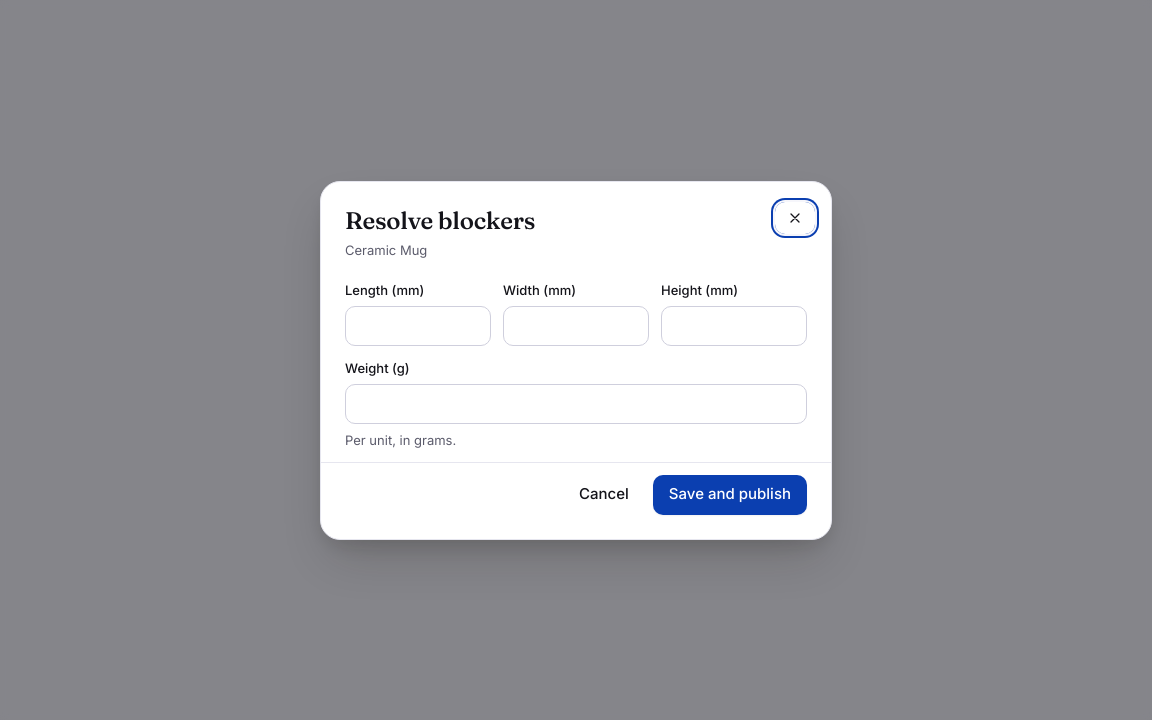
it: maps a 422 onto the field it names
Type "100" into the field labelled "Length (mm)" at point(418, 326), box 345,306 -> 491,346
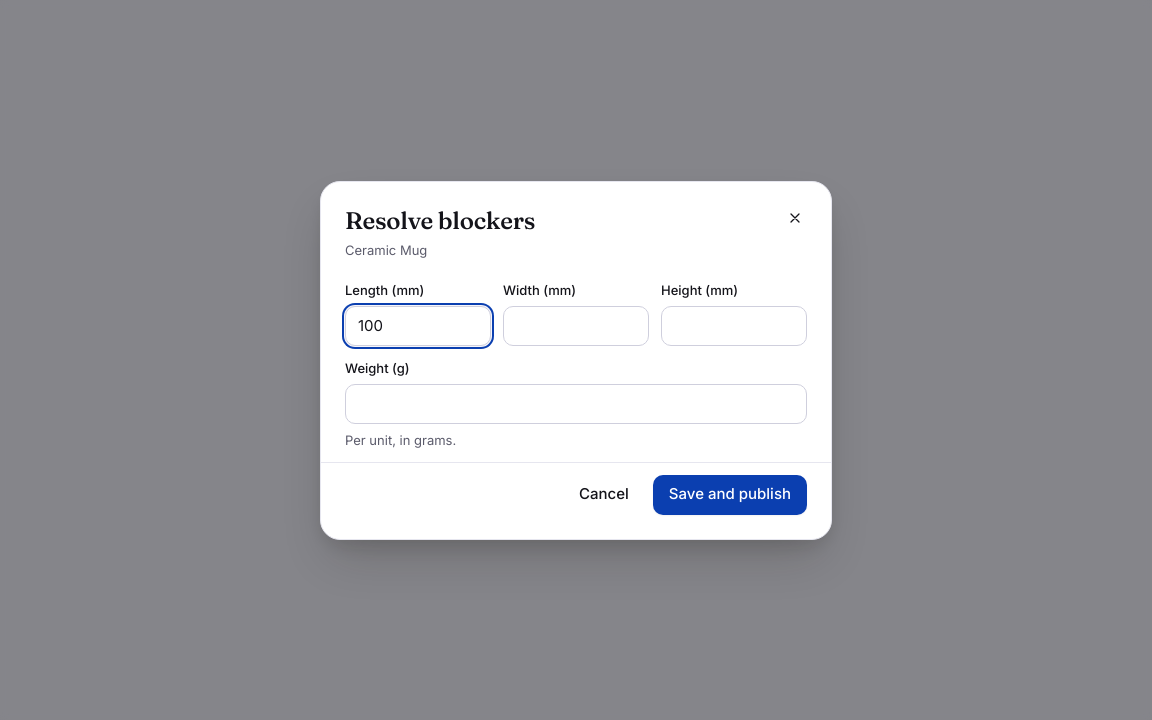
Type "80" into the field labelled "Width (mm)" at point(576, 326), box 503,306 -> 649,346
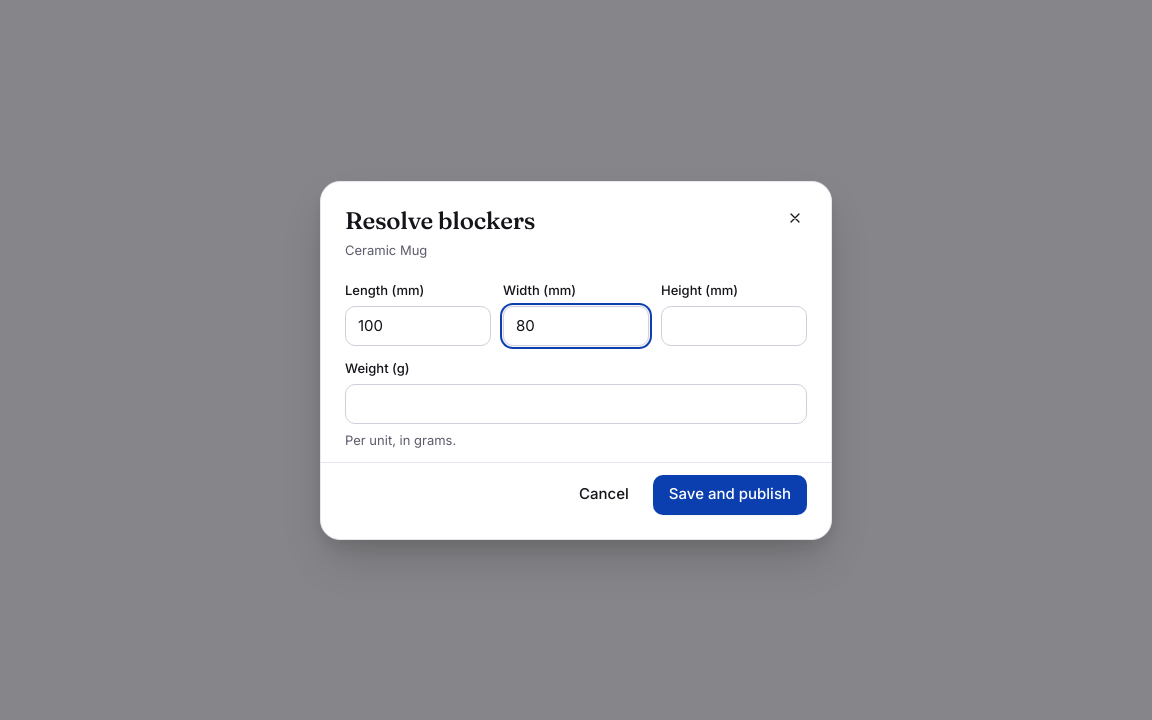
Type "60" into the field labelled "Height (mm)" at point(734, 326), box 661,306 -> 807,346
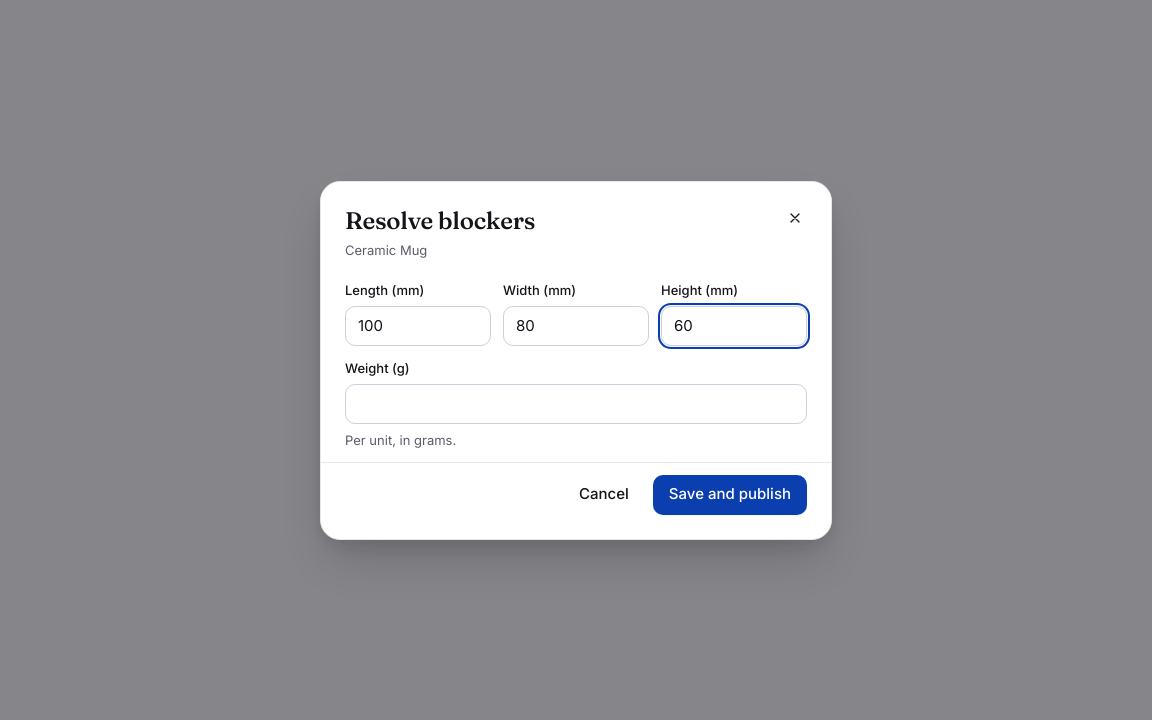
Type "250" into the field labelled "Weight (g)" at point(576, 404), box 345,384 -> 807,424
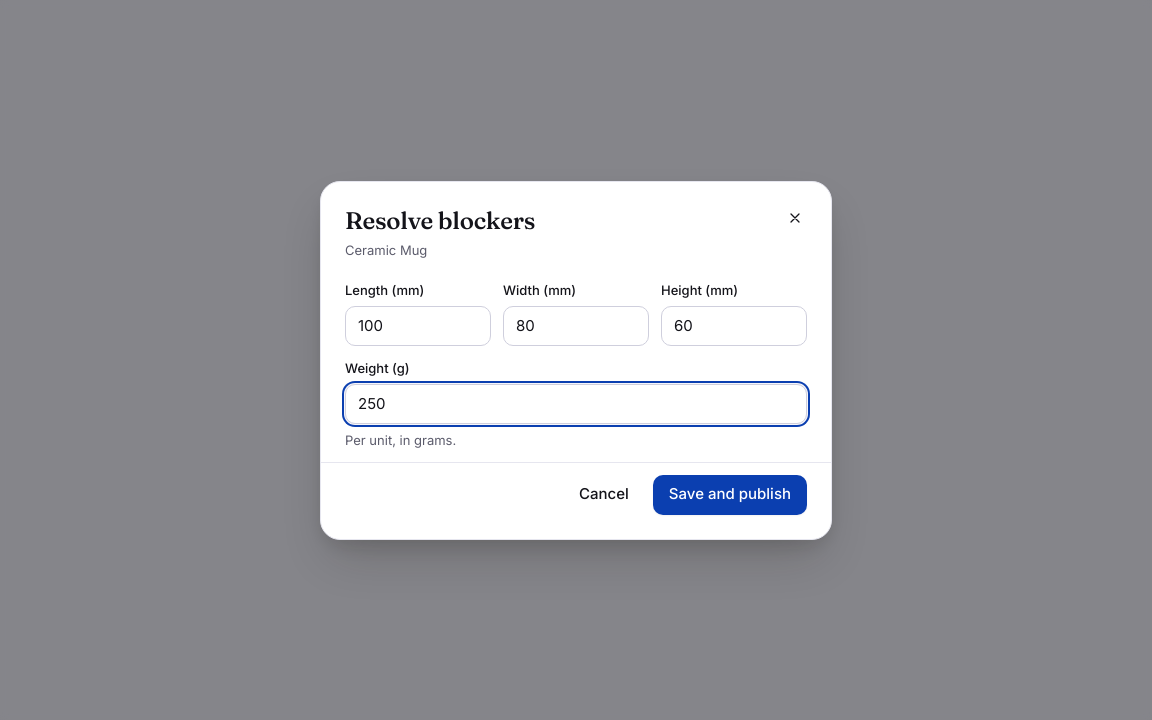
Click the button "Save and publish" at point(730, 494), box 653,474 -> 807,514
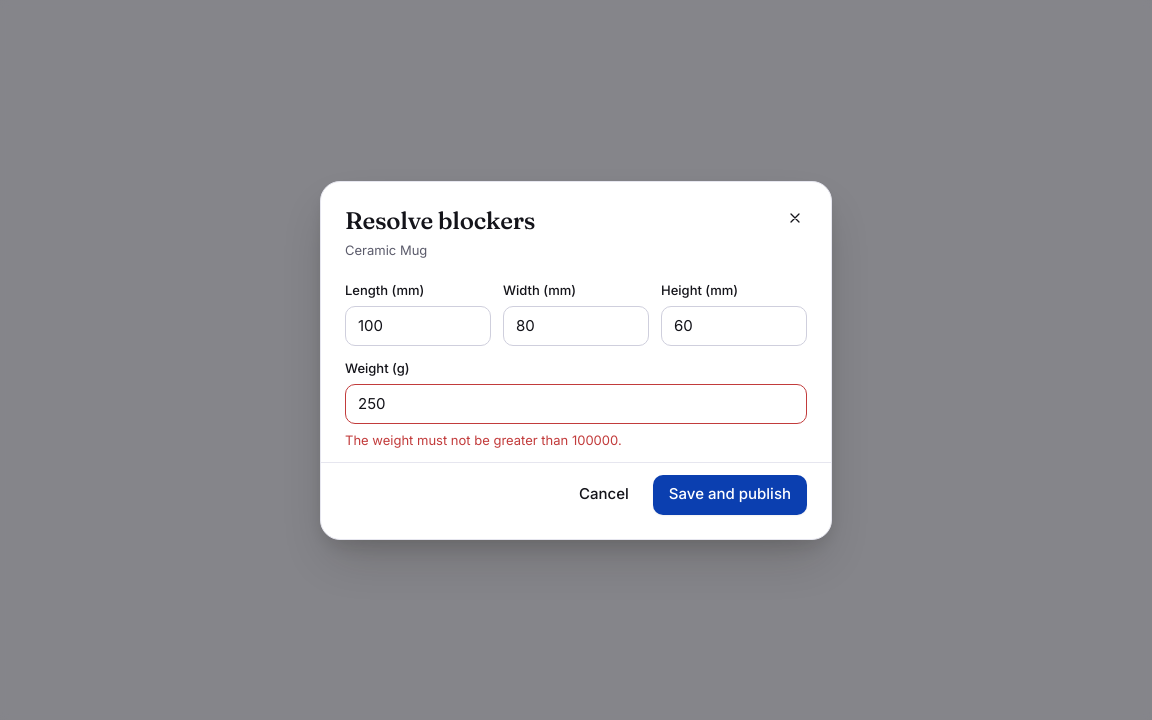
expect the text "The weight must not be greater than 100000." is shown: met, box 345,432 -> 622,448
